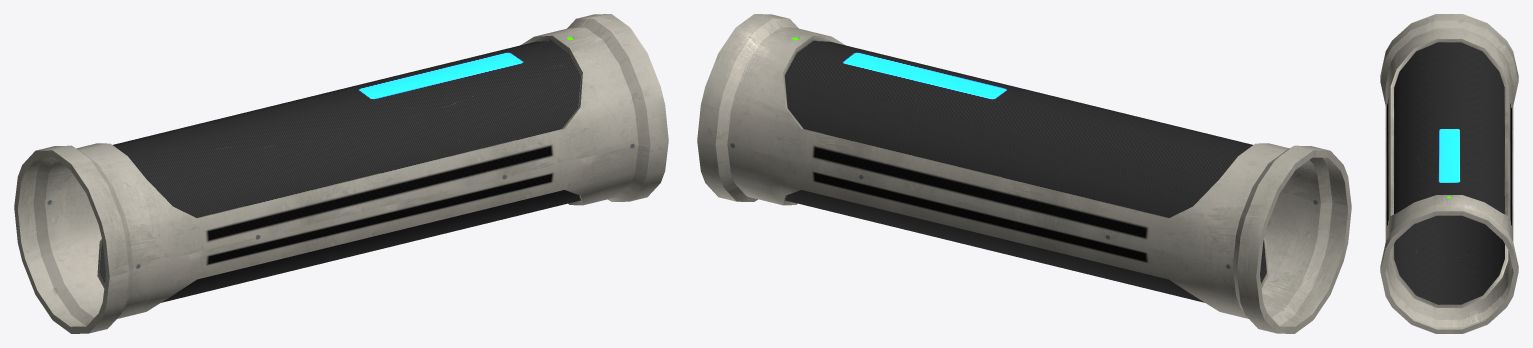
The model's file is grip_1_c_d.glb.
3 renders of one model, left to right at view 1: azimuth 30°, elevation 25°; view 2: azimuth 150°, elevation 25°; view 3: azimuth 270°, elevation 25°, orthographic. The views are drawn at different scales.
Visible parts, largest first — view 1: grip_1_c_d_lod0; view 2: grip_1_c_d_lod0; view 3: grip_1_c_d_lod0.
Boxes of the visible parts, <box> form: grip_1_c_d_lod0: <box>14,14,668,333</box>; grip_1_c_d_lod0: <box>697,14,1351,333</box>; grip_1_c_d_lod0: <box>1380,14,1518,333</box>.
Size of what is drawn, in the model's own units: 0.1054 by 0.0306 by 0.0312.
Materials: 1 (1 with a texture image).
